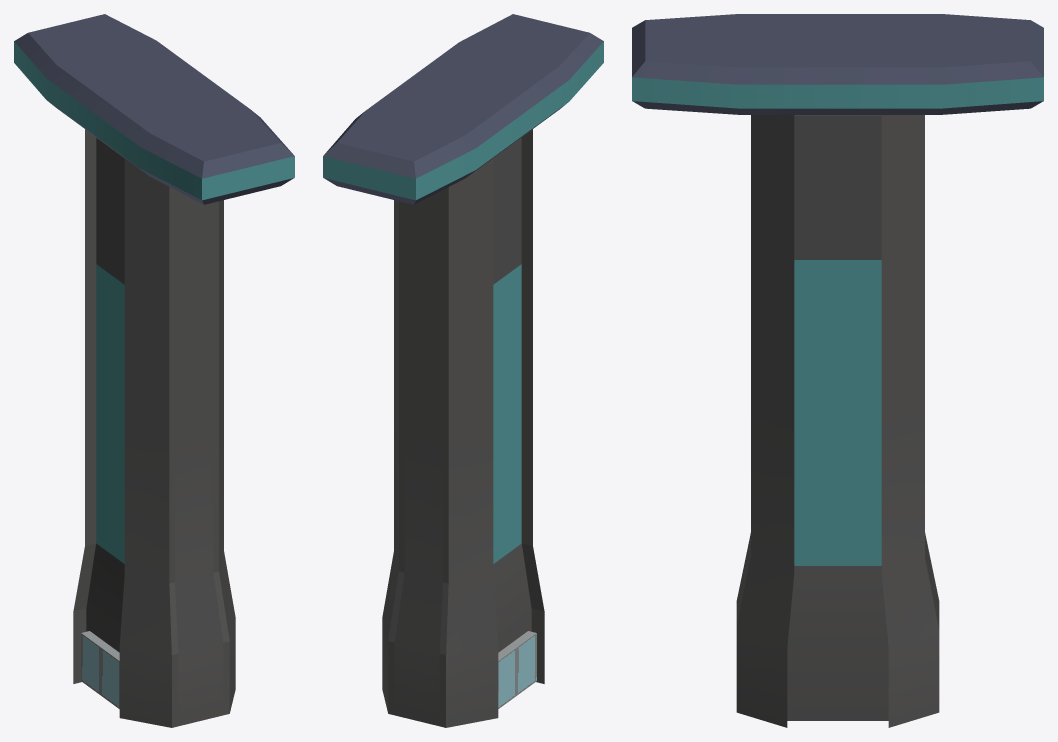
File: tower-exp.fbx
3 views of the same model, side by side, from view 1: azimuth 30°, elevation 25°; view 2: azimuth 150°, elevation 25°; view 3: azimuth 270°, elevation 25° (orthographic). The views are drawn at different scales.
Parts seen in each view (by area): view 1: pCube1, pCube2, pCube3; view 2: pCube1, pCube2, pCube3; view 3: pCube1, pCube2.
Part boxes in pixels (bbox=[...]): pCube1: bbox=[73, 129, 235, 727]; pCube2: bbox=[14, 14, 294, 204]; pCube3: bbox=[81, 631, 119, 708]; pCube1: bbox=[382, 129, 544, 727]; pCube2: bbox=[323, 14, 603, 204]; pCube3: bbox=[498, 631, 536, 708]; pCube1: bbox=[736, 115, 939, 727]; pCube2: bbox=[632, 14, 1043, 114].
Size of the model in its own units: 580 by 2756 by 1567.
